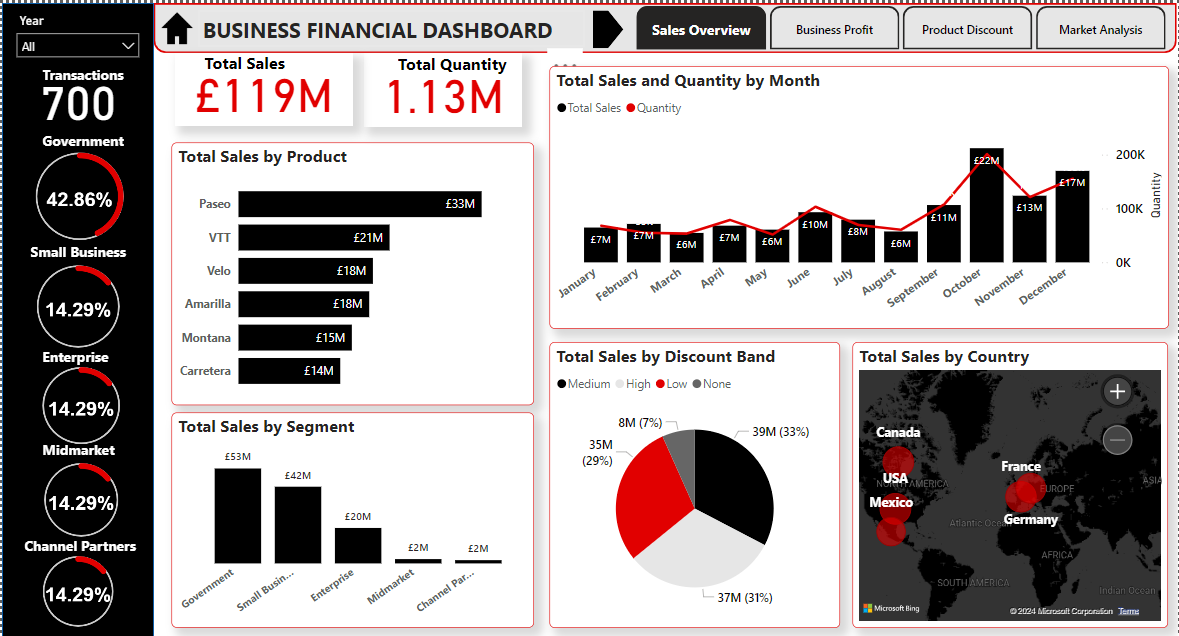

This screenshot's page, from the dashboard's own definition file:
{"tool":"powerbi","page":{"name":"Sales Overview","canvas":[1351,728],"ordinal":0},"visuals":[{"type":"shape","box":[174.6,0,1176.3,57.6],"z":0},{"type":"shape","box":[0,0,174.6,728.8],"z":1000},{"type":"textbox","box":[225,8.3,443.3,41.7],"z":2000},{"type":"card","fields":{"Values":["MyMeasures.Total Sales"]},"box":[198.3,56.9,205.2,84.5],"z":3000},{"type":"clusteredBarChart","title":"Total Sales by Product","fields":{"Category":["financials.Product"],"Y":["MyMeasures.Total Sales"]},"box":[194.9,161,416.9,301.7],"z":4000},{"type":"clusteredColumnChart","title":"Total Sales by Segment","fields":{"Y":["MyMeasures.Total Sales"],"Category":["financials.Segment"]},"box":[194.9,471.2,416.9,247.5],"z":5000},{"type":"card","fields":{"Values":["MyMeasures.Quantity"]},"box":[415.5,56.9,182.8,86.2],"z":6000},{"type":"card","fields":{"Values":["MyMeasures.Transactions"]},"box":[0,72.4,174.1,70.7],"z":7000},{"type":"lineClusteredColumnComboChart","title":"Total Sales and Quantity by Month","fields":{"Category":["financials.Date.Variation.Date Hierarchy.Month"],"Y":["MyMeasures.Total Sales"],"Y2":["MyMeasures.Quantity"]},"box":[628.8,72.9,711.9,301.7],"z":8000},{"type":"donutChart","title":"Total Sales by Discount Band","fields":{"Category":["financials.Discount Band"],"Y":["Sum(financials. Sales)"]},"box":[628.8,389.8,333.9,328.8],"z":9000},{"type":"payPalKPIDonutChart55A431AB15A540ED924ACD72ED8D259F","fields":{"myvalue":["MyMeasures.%Govt Trxn"]},"box":[5.2,160.3,167.2,122.4],"z":10000},{"type":"slicer","fields":{"Values":["financials.Date.Variation.Date Hierarchy.Year"]},"box":[6.9,6.9,160.3,89.7],"z":11000},{"type":"payPalKPIDonutChart55A431AB15A540ED924ACD72ED8D259F","fields":{"myvalue":["MyMeasures.%Small Biz"]},"box":[3.4,289.7,167.2,117.2],"z":12000},{"type":"payPalKPIDonutChart55A431AB15A540ED924ACD72ED8D259F","fields":{"myvalue":["MyMeasures.%Ent Trxn"]},"box":[6.9,406.9,167.2,110.3],"z":13000},{"type":"payPalKPIDonutChart55A431AB15A540ED924ACD72ED8D259F","fields":{"myvalue":["MyMeasures.%Mid Trxn"]},"box":[6.9,517.2,167.2,106.9],"z":14000},{"type":"payPalKPIDonutChart55A431AB15A540ED924ACD72ED8D259F","fields":{"myvalue":["MyMeasures.% Chan Partn"]},"box":[0,624.1,174.1,103.4],"z":15000},{"type":"textbox","box":[41.4,65.5,112.1,43.1],"z":16000},{"type":"textbox","box":[41.4,141.4,112.1,43.1],"z":17000},{"type":"textbox","box":[27.1,269.5,152.5,45.8],"z":18000},{"type":"textbox","box":[41.4,389.7,112.1,43.1],"z":19000},{"type":"textbox","box":[41.4,496.6,112.1,43.1],"z":20000},{"type":"textbox","box":[20.7,606.9,158.6,43.1],"z":21000},{"type":"map","title":"Total Sales by Country","fields":{"Category":["financials.Country"],"Size":["MyMeasures.Total Sales"]},"box":[978,389.8,362.7,328.8],"z":22000},{"type":"textbox","box":[227.6,50,112.1,43.1],"z":23000},{"type":"textbox","box":[450,51.7,148.3,43.1],"z":24000},{"type":"pageNavigator","box":[730,3.3,610,50],"z":24001},{"type":"image","box":[178.3,0,46.7,58.3],"z":24002},{"type":"shape","box":[680,8.3,35,43.3],"z":24003}]}

Visuals, with their boxes in screenshot pixels (x1, y1, x2, y2), scaled from the page's 1351x728 canvas onto the 1179x636 screenshot:
shape: Rect(152, 0, 1178, 50)
shape: Rect(0, 0, 152, 635)
textbox: Rect(196, 7, 583, 44)
card - MyMeasures.Total Sales: Rect(173, 50, 352, 124)
"Total Sales by Product" clusteredBarChart: Rect(170, 141, 534, 404)
"Total Sales by Segment" clusteredColumnChart: Rect(170, 412, 534, 628)
card - MyMeasures.Quantity: Rect(363, 50, 522, 125)
card - MyMeasures.Transactions: Rect(0, 63, 152, 125)
"Total Sales and Quantity by Month" lineClusteredColumnComboChart: Rect(549, 64, 1170, 327)
"Total Sales by Discount Band" donutChart: Rect(549, 341, 840, 628)
payPalKPIDonutChart55A431AB15A540ED924ACD72ED8D259F - MyMeasures.%Govt Trxn: Rect(5, 140, 150, 247)
slicer - financials.Date.Variation.Date Hierarchy.Year: Rect(6, 6, 146, 84)
payPalKPIDonutChart55A431AB15A540ED924ACD72ED8D259F - MyMeasures.%Small Biz: Rect(3, 253, 149, 355)
payPalKPIDonutChart55A431AB15A540ED924ACD72ED8D259F - MyMeasures.%Ent Trxn: Rect(6, 355, 152, 452)
payPalKPIDonutChart55A431AB15A540ED924ACD72ED8D259F - MyMeasures.%Mid Trxn: Rect(6, 452, 152, 545)
payPalKPIDonutChart55A431AB15A540ED924ACD72ED8D259F - MyMeasures.% Chan Partn: Rect(0, 545, 152, 635)
textbox: Rect(36, 57, 134, 95)
textbox: Rect(36, 124, 134, 161)
textbox: Rect(24, 235, 157, 275)
textbox: Rect(36, 340, 134, 378)
textbox: Rect(36, 434, 134, 471)
textbox: Rect(18, 530, 156, 568)
"Total Sales by Country" map: Rect(853, 341, 1170, 628)
textbox: Rect(199, 44, 296, 81)
textbox: Rect(393, 45, 522, 83)
pageNavigator: Rect(637, 3, 1169, 47)
image: Rect(156, 0, 196, 51)
shape: Rect(593, 7, 624, 45)
